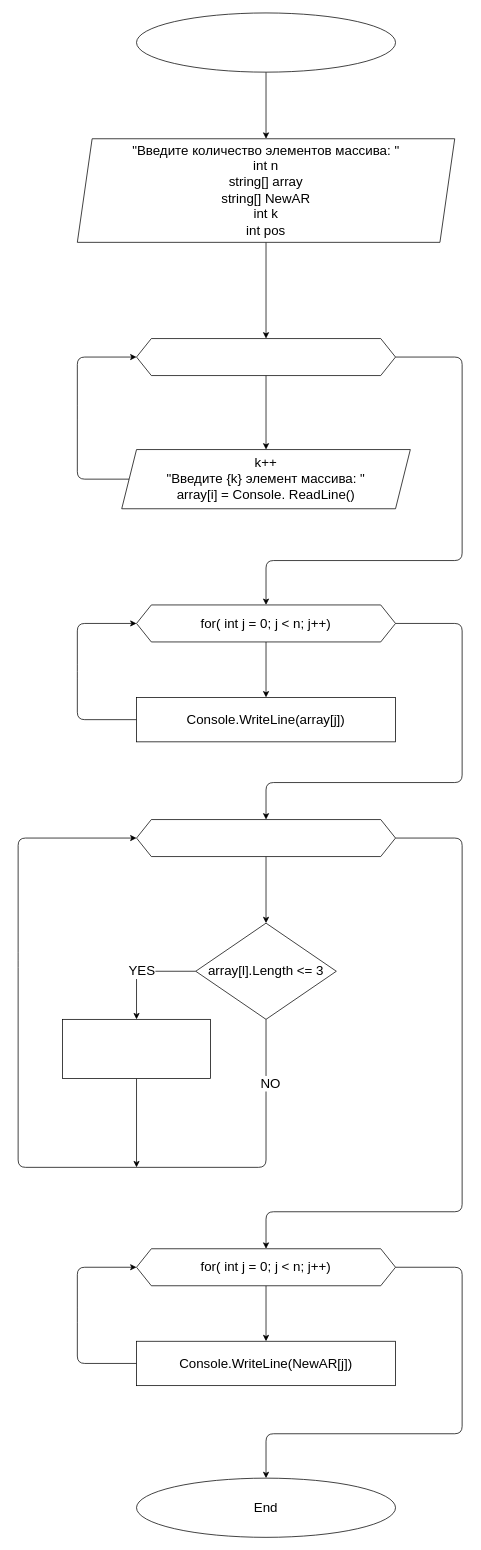
Some shapes in this 481 by 1550 pixel diagram are drawn without their labels. Each missing label, with the box of its shape:
array[l] = NewAR[pos] pos++: (62, 1019, 211, 1079)
for( int i = 0; i < n; i++): (136, 338, 396, 376)
for( int l = 0; l < n; l++): (136, 819, 396, 857)
Start: (136, 12, 396, 72)
